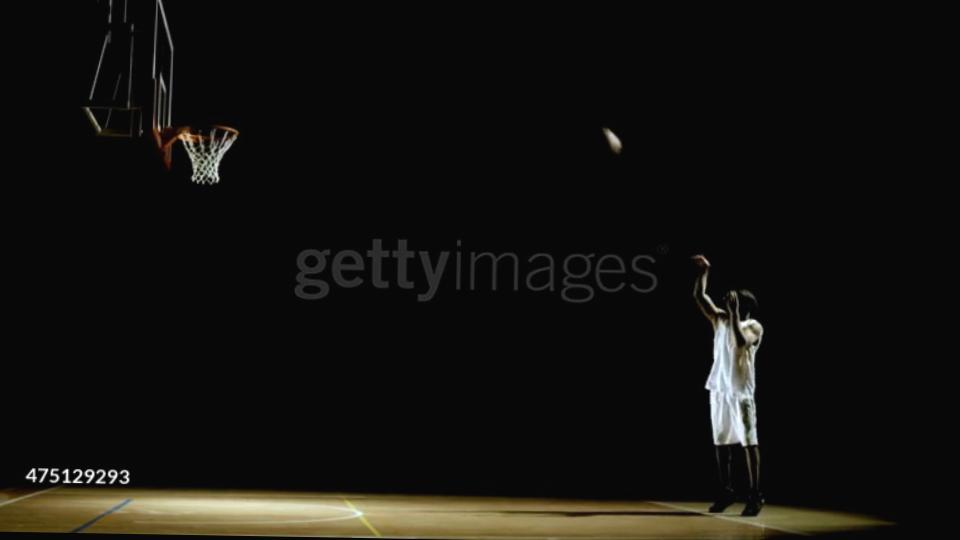hoop: (163, 121, 246, 146)
